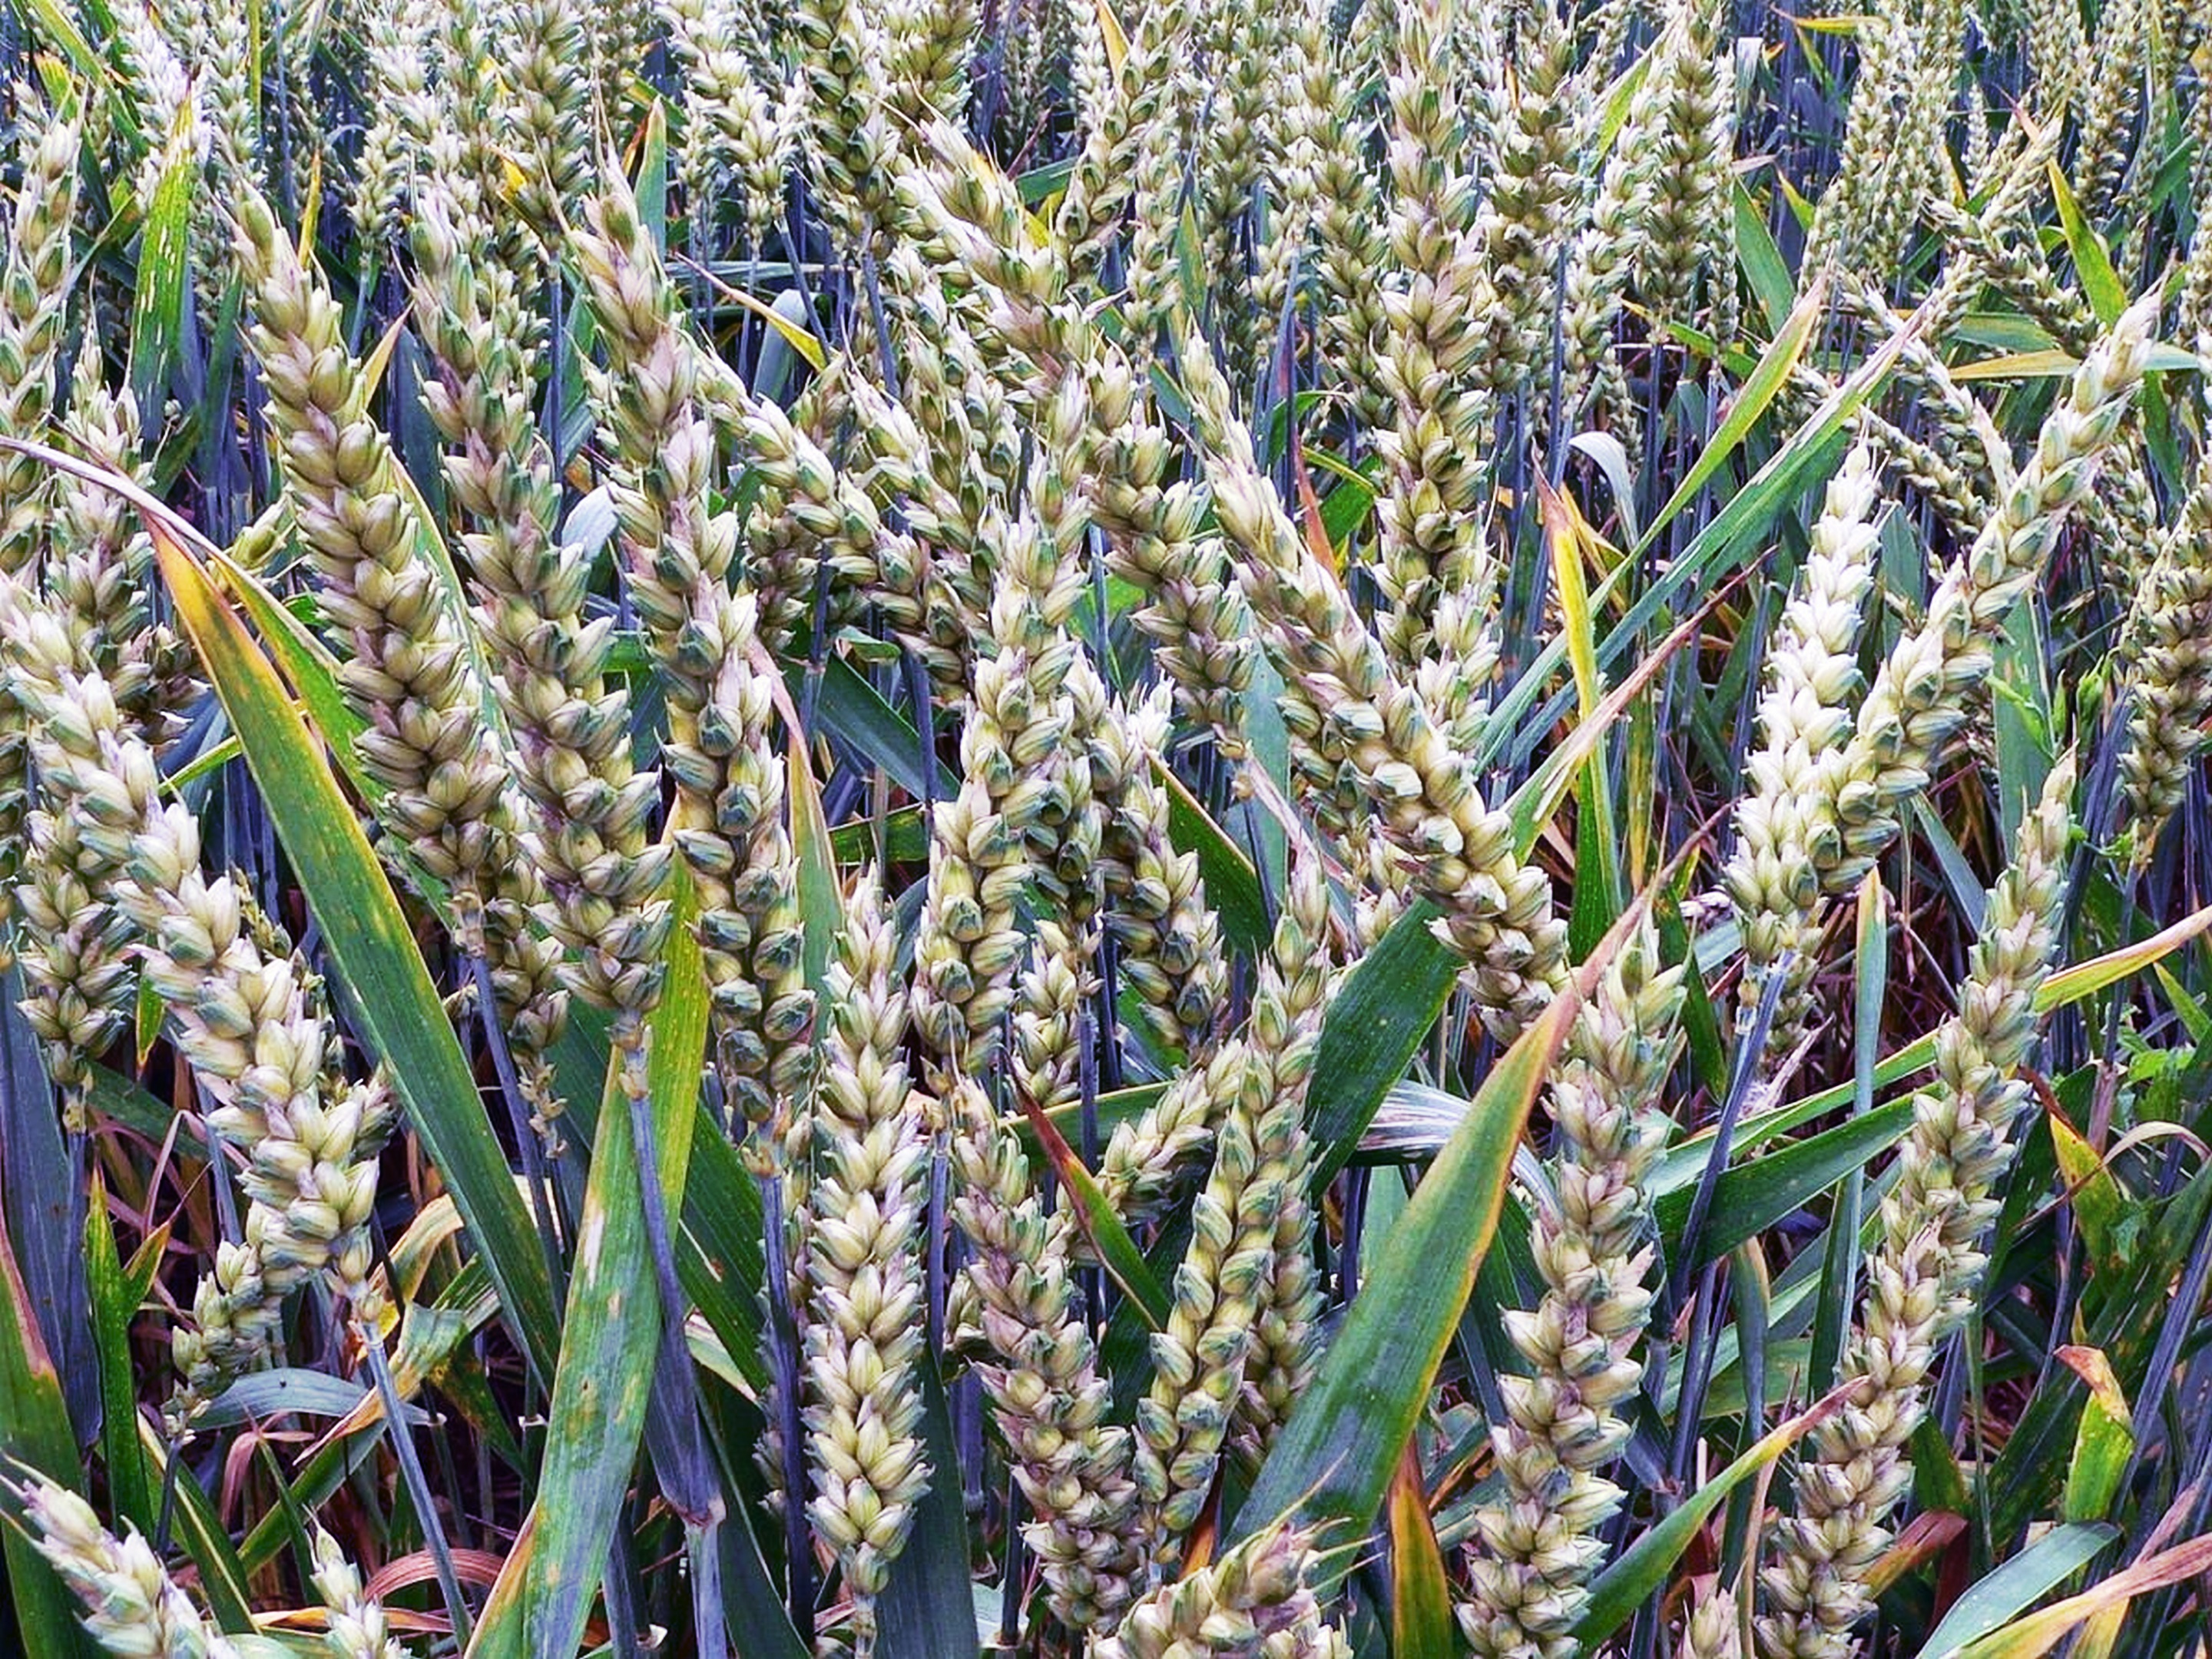Healthy Wheat: (225, 227, 561, 969), (1458, 953, 1700, 1650), (732, 875, 949, 1601)
